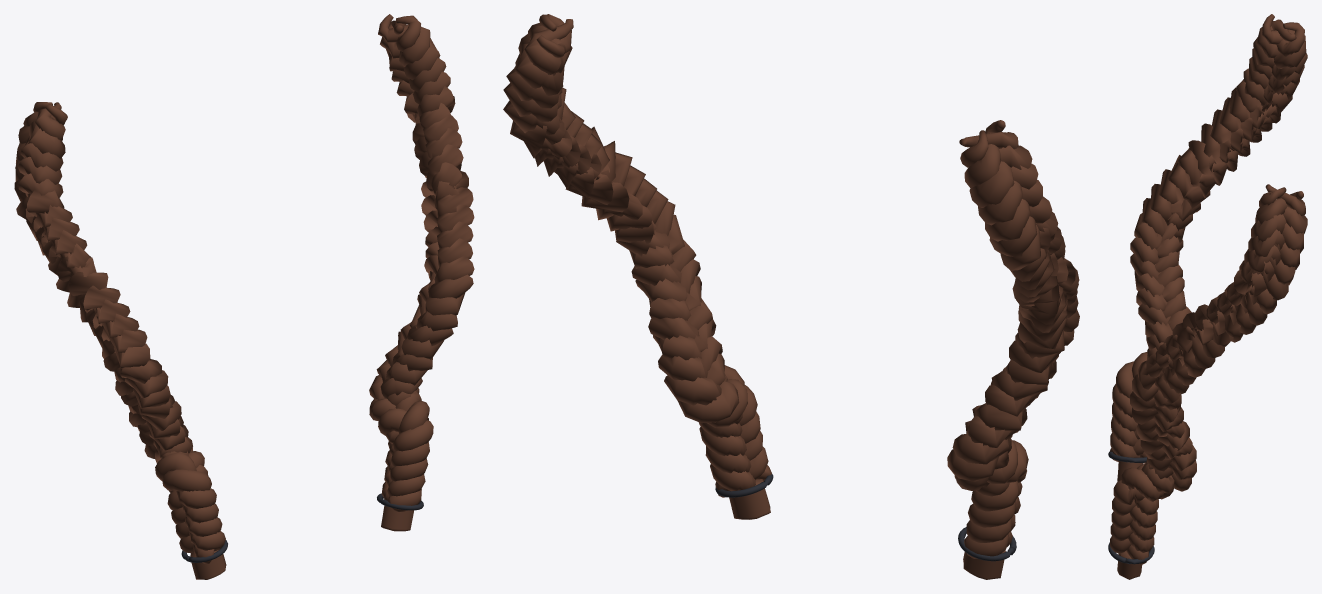
Rendered from Feminine-twin-braids-tank-lengths251.glb.
The picture shows the model from 3 angles, left to right: view 1: azimuth 30°, elevation 25°; view 2: azimuth 150°, elevation 25°; view 3: azimuth 270°, elevation 25°; orthographic projection. The views are drawn at different scales.
Visible parts, largest first — view 1: 226 hairLengths / Hair / chestnut226, 226 hairLengths / Hair / ties226; view 2: 226 hairLengths / Hair / chestnut226, 226 hairLengths / Hair / ties226; view 3: 226 hairLengths / Hair / chestnut226, 226 hairLengths / Hair / ties226.
Boxes of the visible parts, box(x1,y1,x2,y2) form: 226 hairLengths / Hair / chestnut226: box(14, 14, 474, 579); 226 hairLengths / Hair / ties226: box(181, 493, 423, 562); 226 hairLengths / Hair / chestnut226: box(503, 14, 1079, 579); 226 hairLengths / Hair / ties226: box(715, 474, 1016, 561); 226 hairLengths / Hair / chestnut226: box(1110, 14, 1307, 579); 226 hairLengths / Hair / ties226: box(1108, 451, 1154, 564).
Bounding box in the file's own units: 1.09 × 1.06 × 0.4449.
